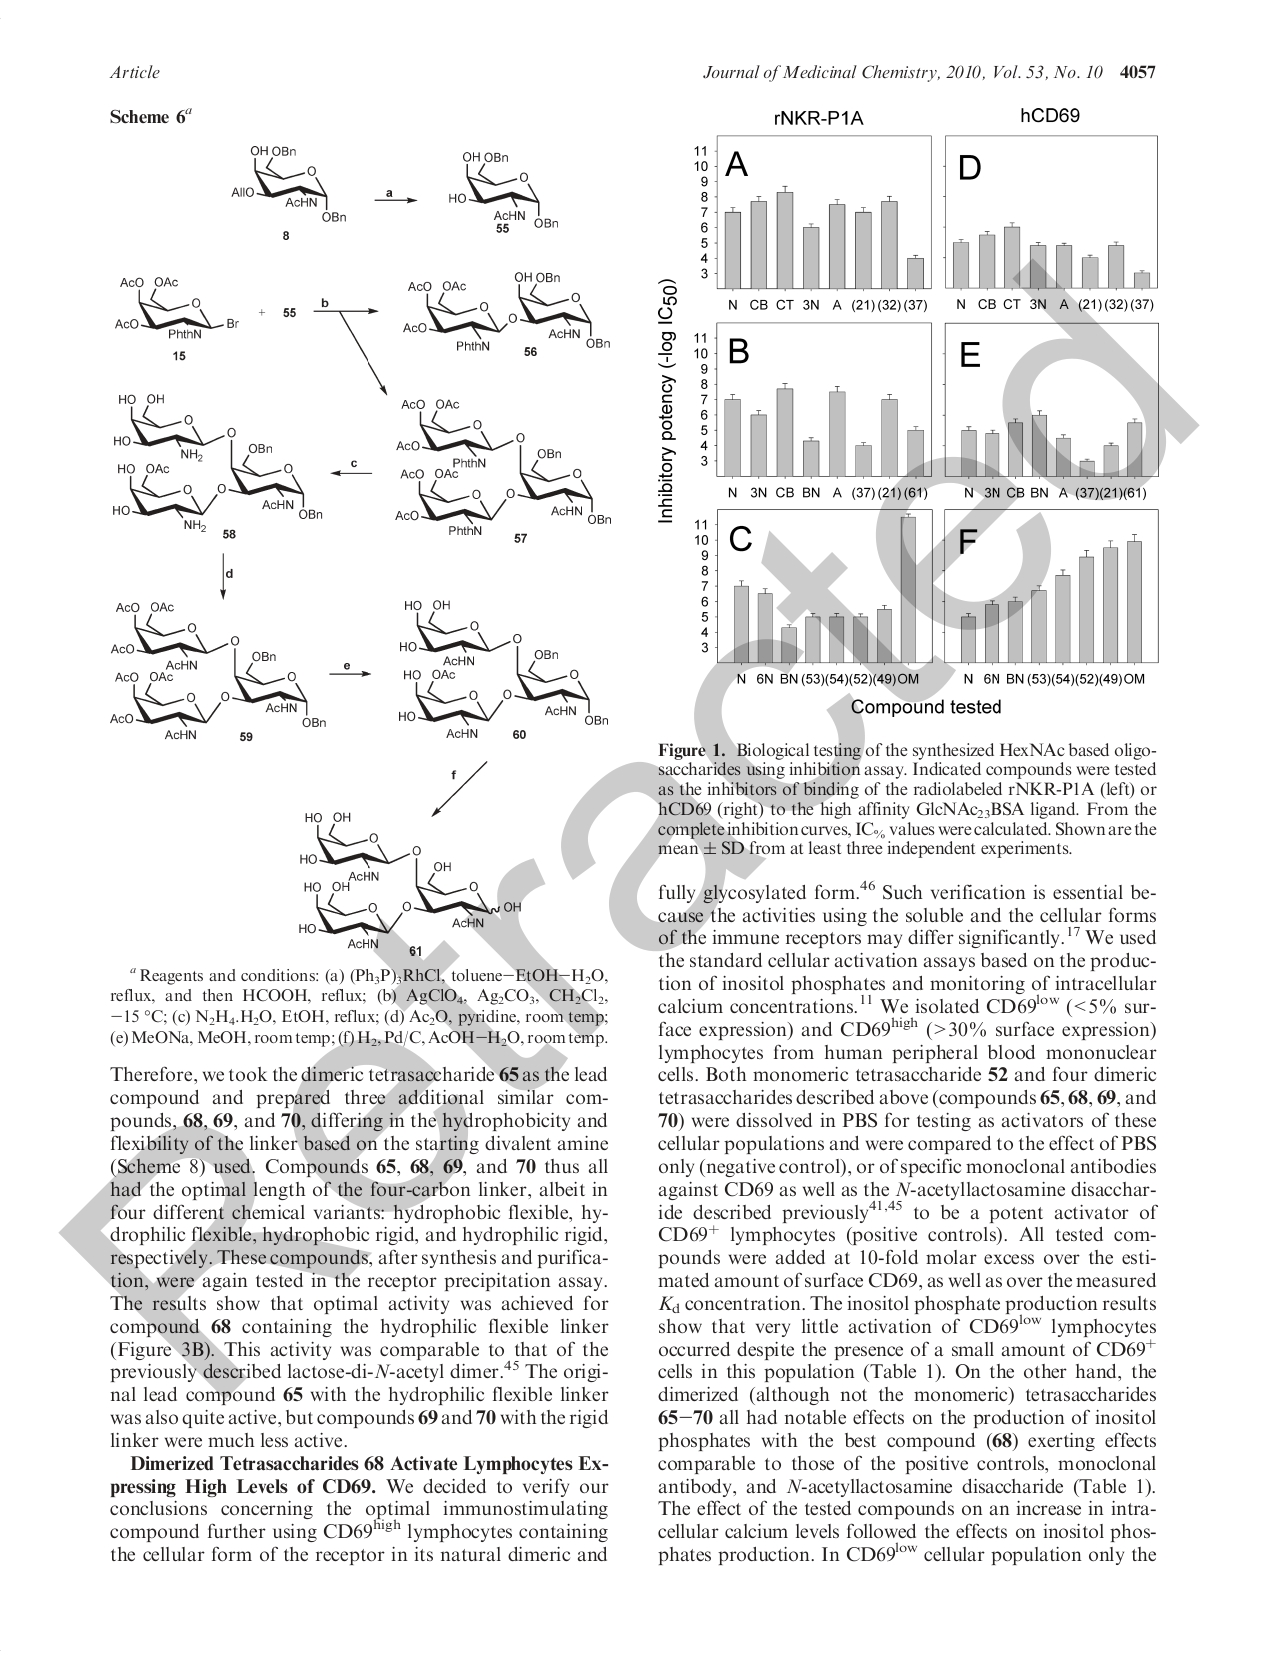exist_molecular: (293, 797, 531, 951), (109, 588, 328, 742), (395, 590, 613, 739), (106, 391, 324, 527), (398, 398, 616, 533), (404, 275, 622, 358), (199, 137, 355, 235), (434, 144, 578, 249), (104, 255, 243, 352)
